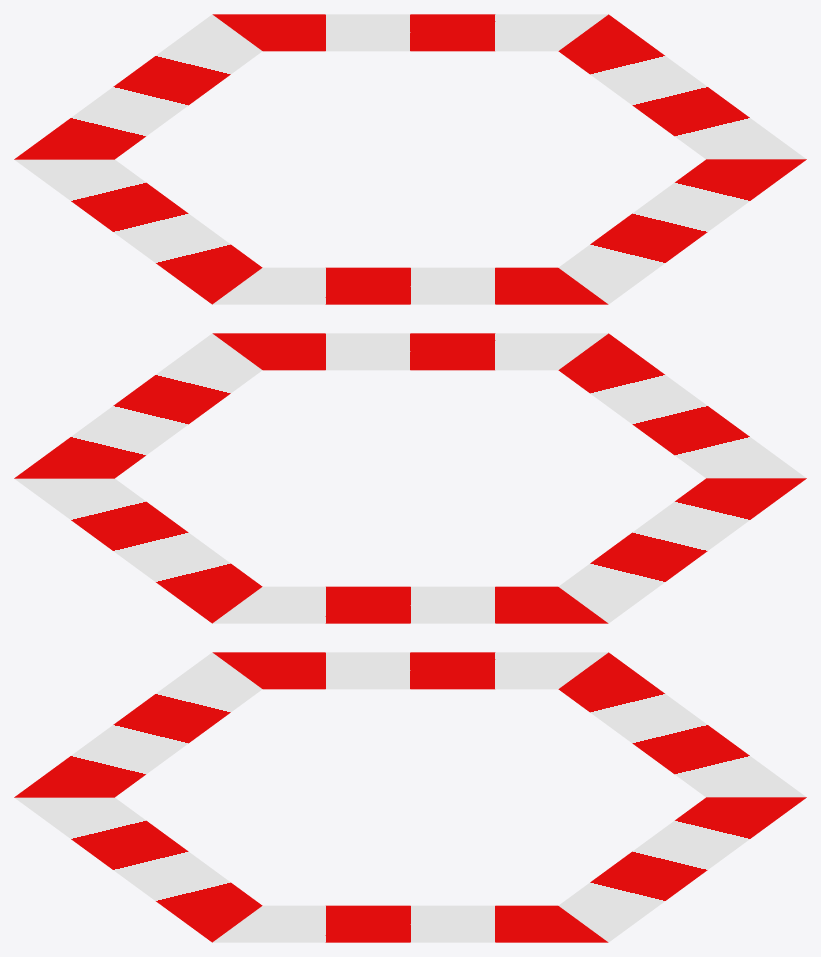
File: BorderHex.FBX
The picture shows the model from 3 angles, top to bottom: view 1: azimuth 30°, elevation 25°; view 2: azimuth 150°, elevation 25°; view 3: azimuth 270°, elevation 25°; orthographic projection.
Parts seen in each view (by area): view 1: BorderHex; view 2: BorderHex; view 3: BorderHex.
Part boxes in pixels (left/top/right/bottom): BorderHex: left=14, top=14, right=806, bottom=304; BorderHex: left=14, top=333, right=806, bottom=623; BorderHex: left=14, top=652, right=806, bottom=942.
Bounding box in the file's own units: 165 × 5.4e-14 × 191.
Materials: 1 (1 with a texture image).
